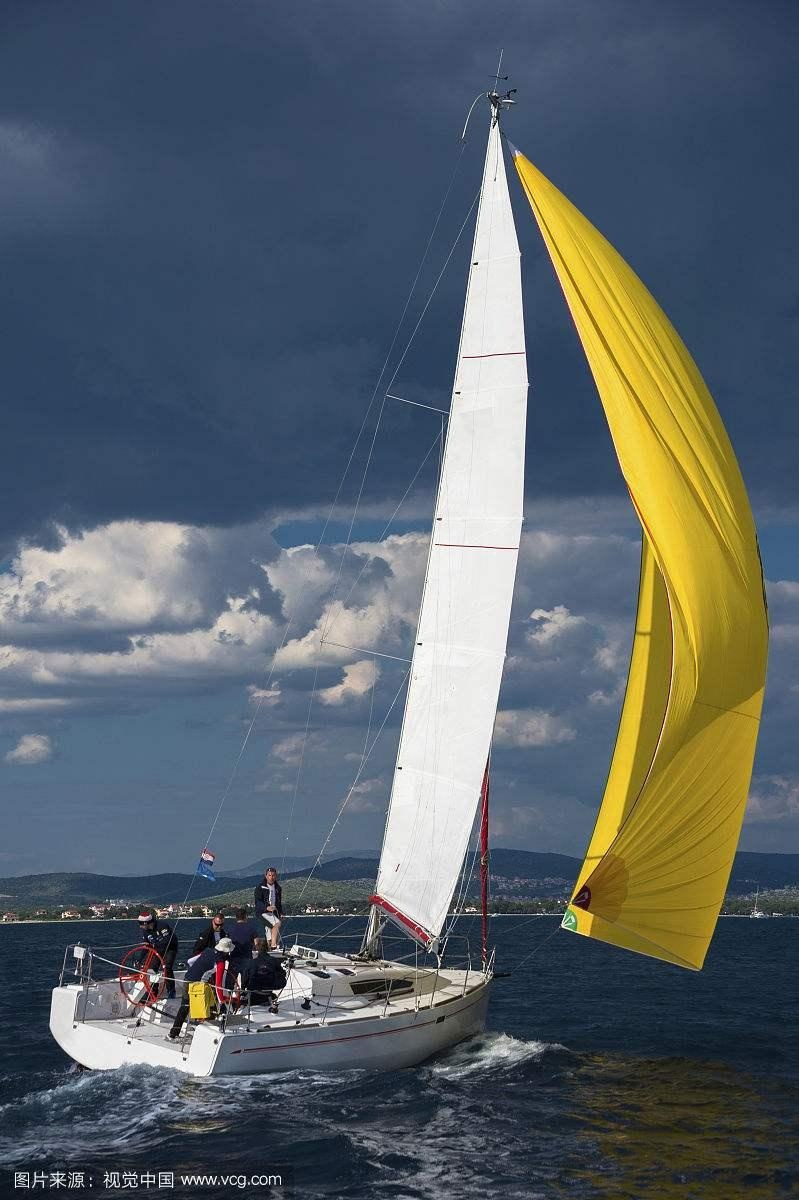fanchuan: (50, 62, 759, 1090)
person: (166, 938, 235, 1040), (221, 939, 289, 1015), (133, 910, 181, 990), (251, 866, 289, 951), (185, 915, 228, 963)
